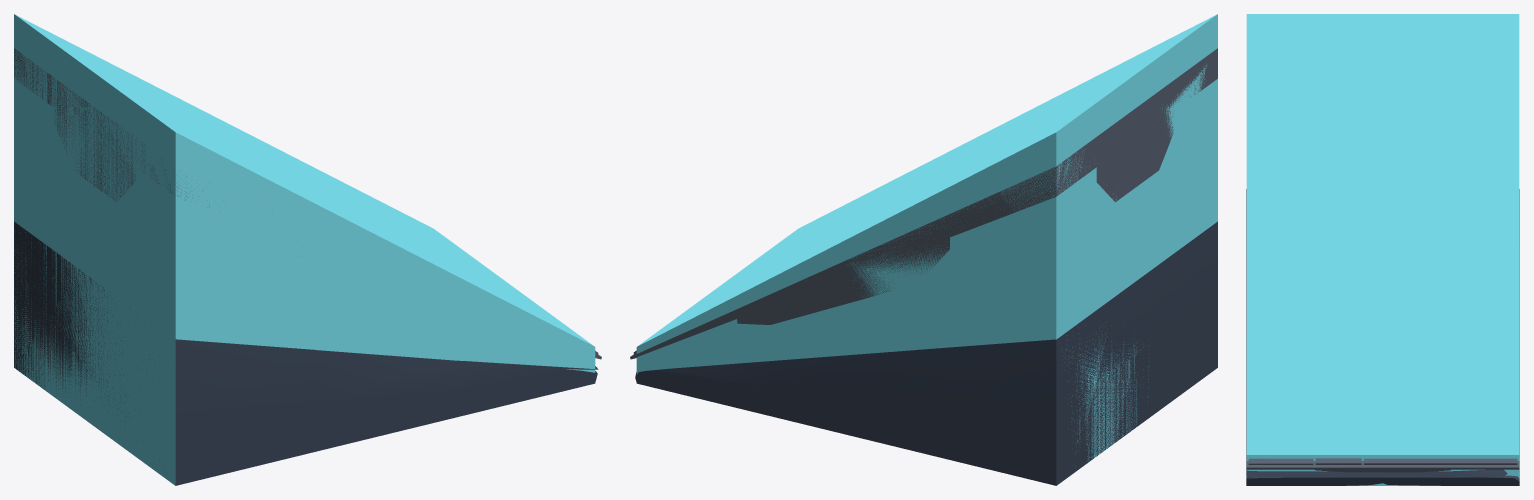
Rendered from PBOX23_ Slope_MUDFlA_01.FBX.
3 renders of one model, left to right at view 1: azimuth 30°, elevation 25°; view 2: azimuth 150°, elevation 25°; view 3: azimuth 270°, elevation 25°, orthographic. The views are drawn at different scales.
Visible parts, largest first — view 1: PBOX23_ Slope_MUDFlA_01, PBOX23_SUB_TAB_FlA_005, PBOX32_SUB_MudFlA_004; view 2: PBOX23_ Slope_MUDFlA_01, PBOX23_SUB_TAB_FlA_005, PBOX32_SUB_MudFlA_004; view 3: PBOX23_ Slope_MUDFlA_01, PBOX23_SUB_TAB_FlA_005, PBOX32_SUB_MudFlA_004.
Boxes of the visible parts, x1=… form: PBOX23_ Slope_MUDFlA_01: x1=14, y1=14, x2=595, y2=485; PBOX23_SUB_TAB_FlA_005: x1=14, y1=221, x2=598, y2=485; PBOX32_SUB_MudFlA_004: x1=14, y1=48, x2=601, y2=359; PBOX23_ Slope_MUDFlA_01: x1=636, y1=14, x2=1217, y2=460; PBOX23_SUB_TAB_FlA_005: x1=635, y1=221, x2=1217, y2=485; PBOX32_SUB_MudFlA_004: x1=630, y1=48, x2=1217, y2=359; PBOX23_ Slope_MUDFlA_01: x1=1246, y1=14, x2=1519, y2=485; PBOX23_SUB_TAB_FlA_005: x1=1246, y1=189, x2=1519, y2=485; PBOX32_SUB_MudFlA_004: x1=1246, y1=458, x2=1519, y2=472.
Bounding box in the file's own units: 18.29 × 14.5 × 12.
